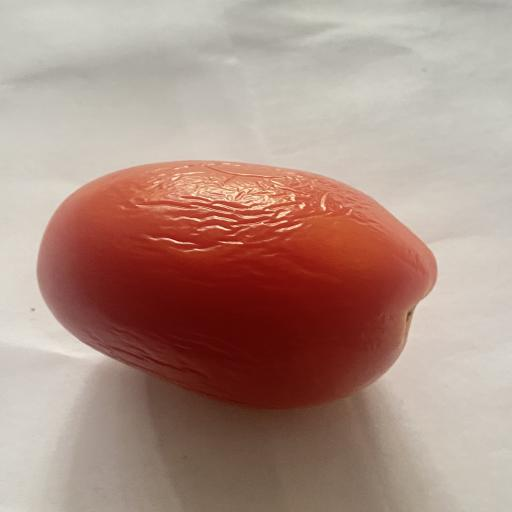spoiled: (37, 159, 436, 409)
